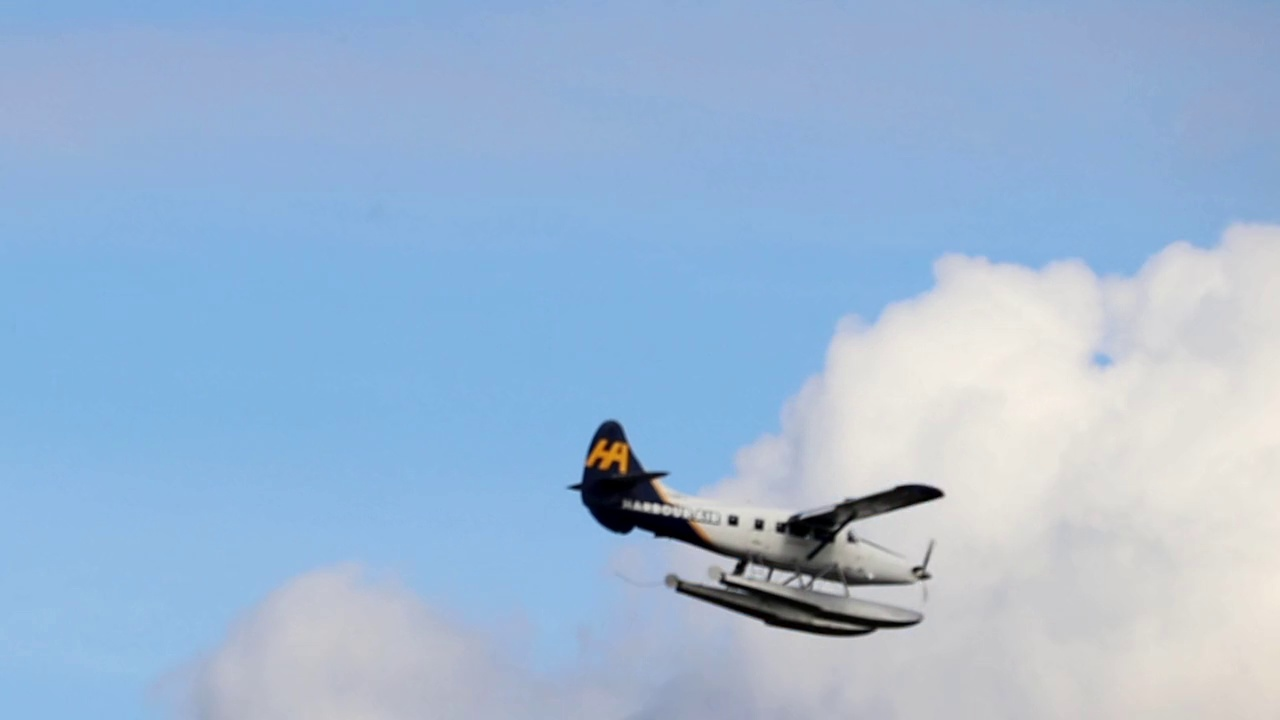plane: (568, 419, 944, 635)
